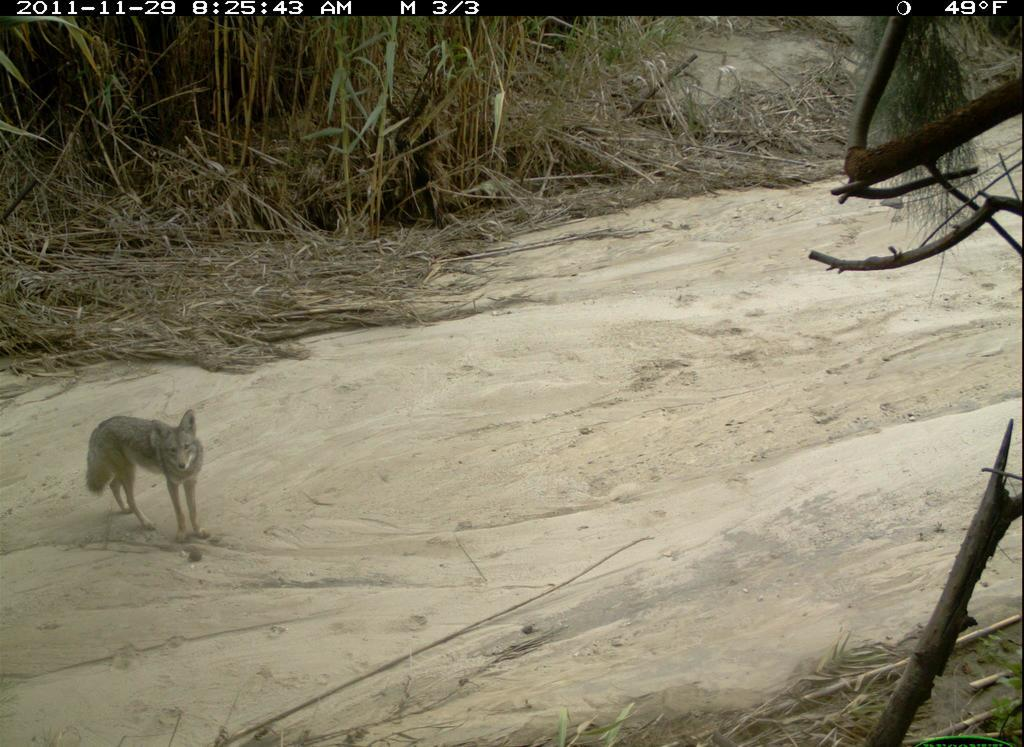coyote: (81, 405, 227, 556)
